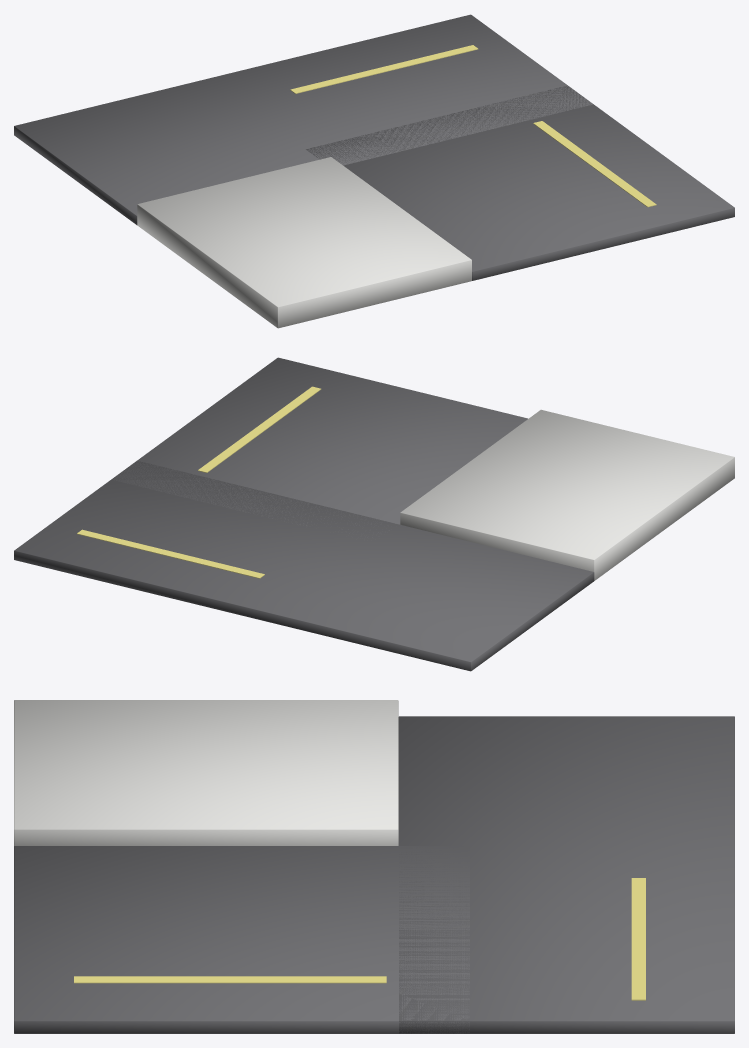
File: Road_Curve.fbx
3 renders of one model, top to bottom at view 1: azimuth 30°, elevation 25°; view 2: azimuth 150°, elevation 25°; view 3: azimuth 270°, elevation 25°, orthographic. The views are drawn at different scales.
Visible parts, largest first — view 1: LOD0; view 2: LOD0; view 3: LOD0.
Boxes of the visible parts, bbox=[...] form: LOD0: bbox=[14, 14, 734, 328]; LOD0: bbox=[14, 357, 734, 671]; LOD0: bbox=[14, 700, 734, 1033].
Size of what is drawn, in the model's own units: 600 by 27 by 600.
